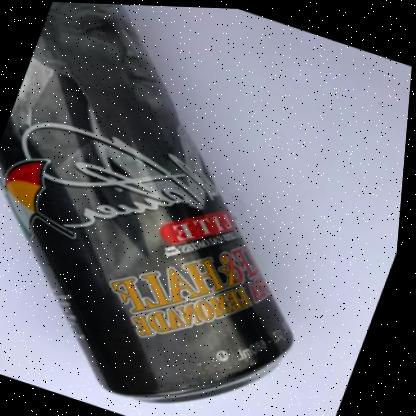Metal: (0, 1, 296, 401)
